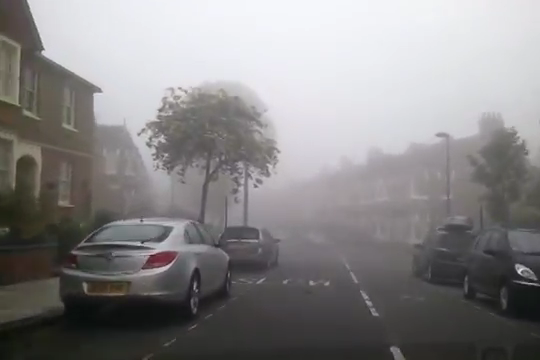car: (57, 213, 234, 319), (460, 221, 539, 311), (409, 217, 488, 287), (215, 225, 283, 271)
